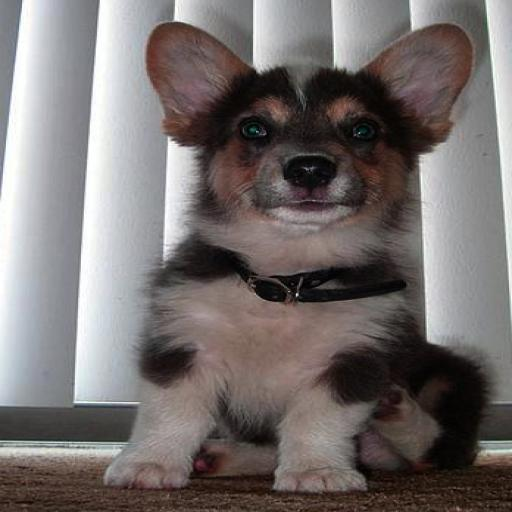dog_face: (139, 20, 483, 226)
